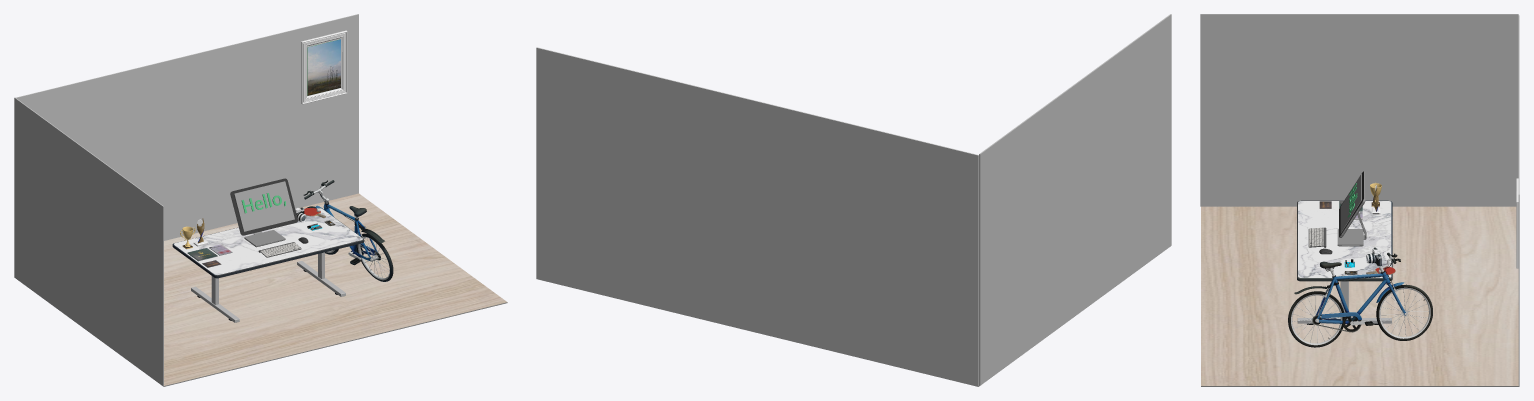
The model's file is myroom.gltf.
3 renders of one model, left to right at view 1: azimuth 30°, elevation 25°; view 2: azimuth 150°, elevation 25°; view 3: azimuth 270°, elevation 25°, orthographic. The views are drawn at different scales.
Bounding box in the file's own units: 0.401 × 0.201 × 0.301.
Materials: 38 (13 with a texture image).
